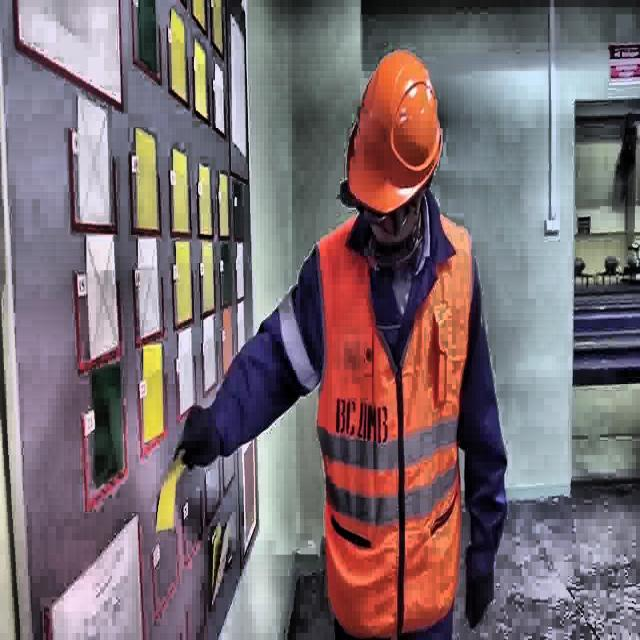safety_helmet: (348, 52, 441, 214)
safety_jacket: (314, 214, 472, 640)
